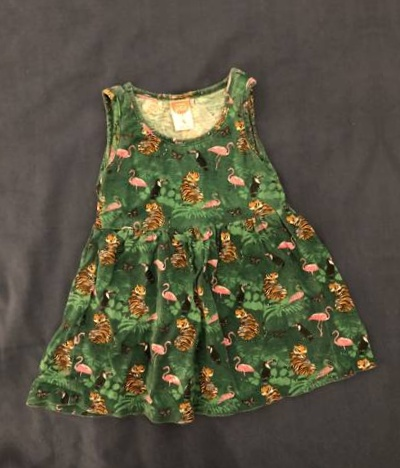Dress: (5, 54, 396, 432), (378, 29, 400, 407)
